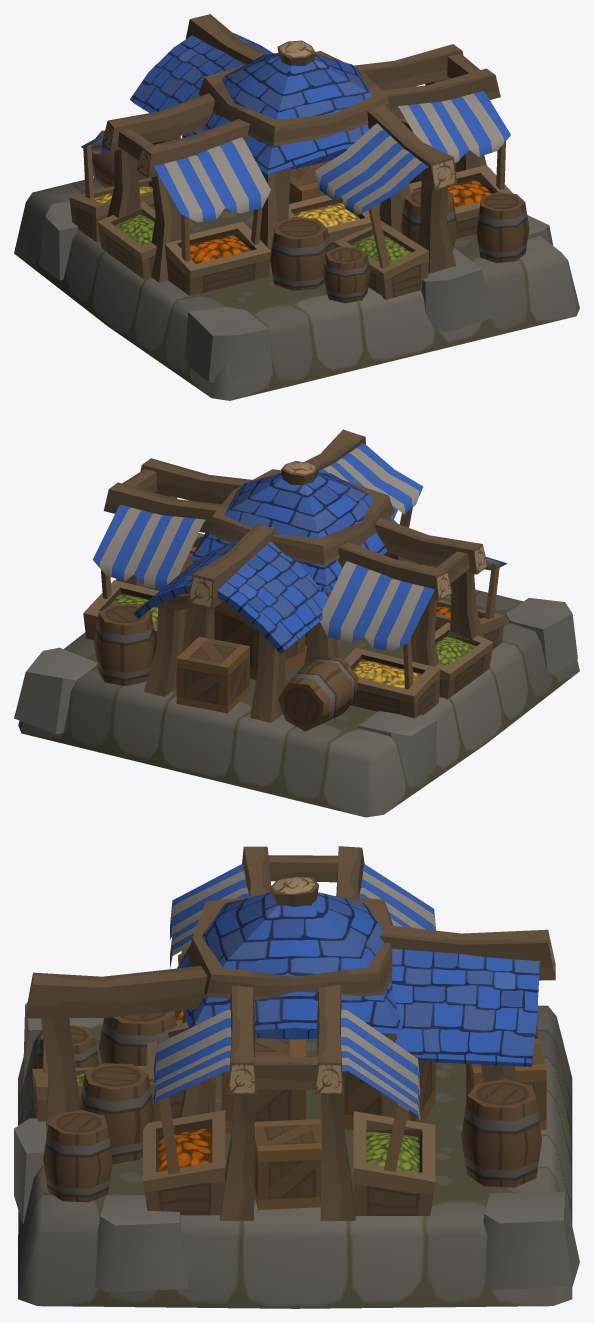
Rendered from Market.FBX.
3 renders of one model, top to bottom at view 1: azimuth 30°, elevation 25°; view 2: azimuth 150°, elevation 25°; view 3: azimuth 270°, elevation 25°, orthographic. The views are drawn at different scales.
Parts seen in each view (by area): view 1: Market; view 2: Market; view 3: Market.
Boxes of the visible parts, <box> form: Market: <box>14,14,579,400</box>; Market: <box>14,429,579,817</box>; Market: <box>14,846,579,1308</box>.
Bounding box in the file's own units: 676 × 404 × 672.
